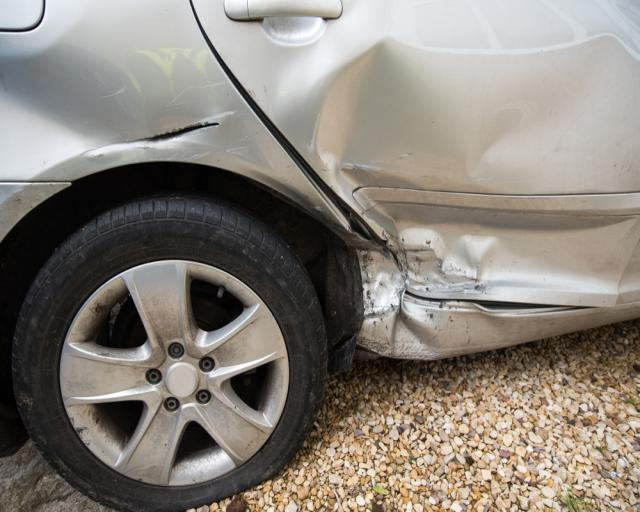crack: (141, 122, 221, 140)
dent: (313, 35, 640, 301), (0, 45, 138, 179), (360, 239, 442, 360)
